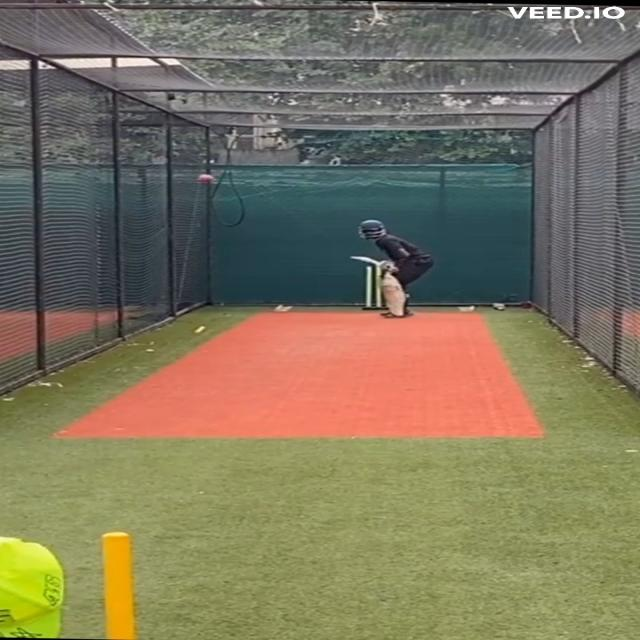ball: (194, 172, 218, 186)
stump: (364, 262, 388, 310)
